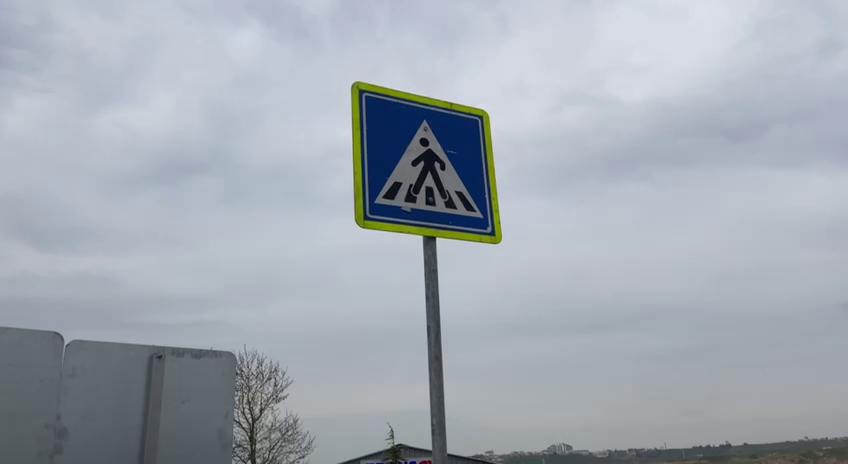pedestrianCrossing: (345, 76, 505, 247)
